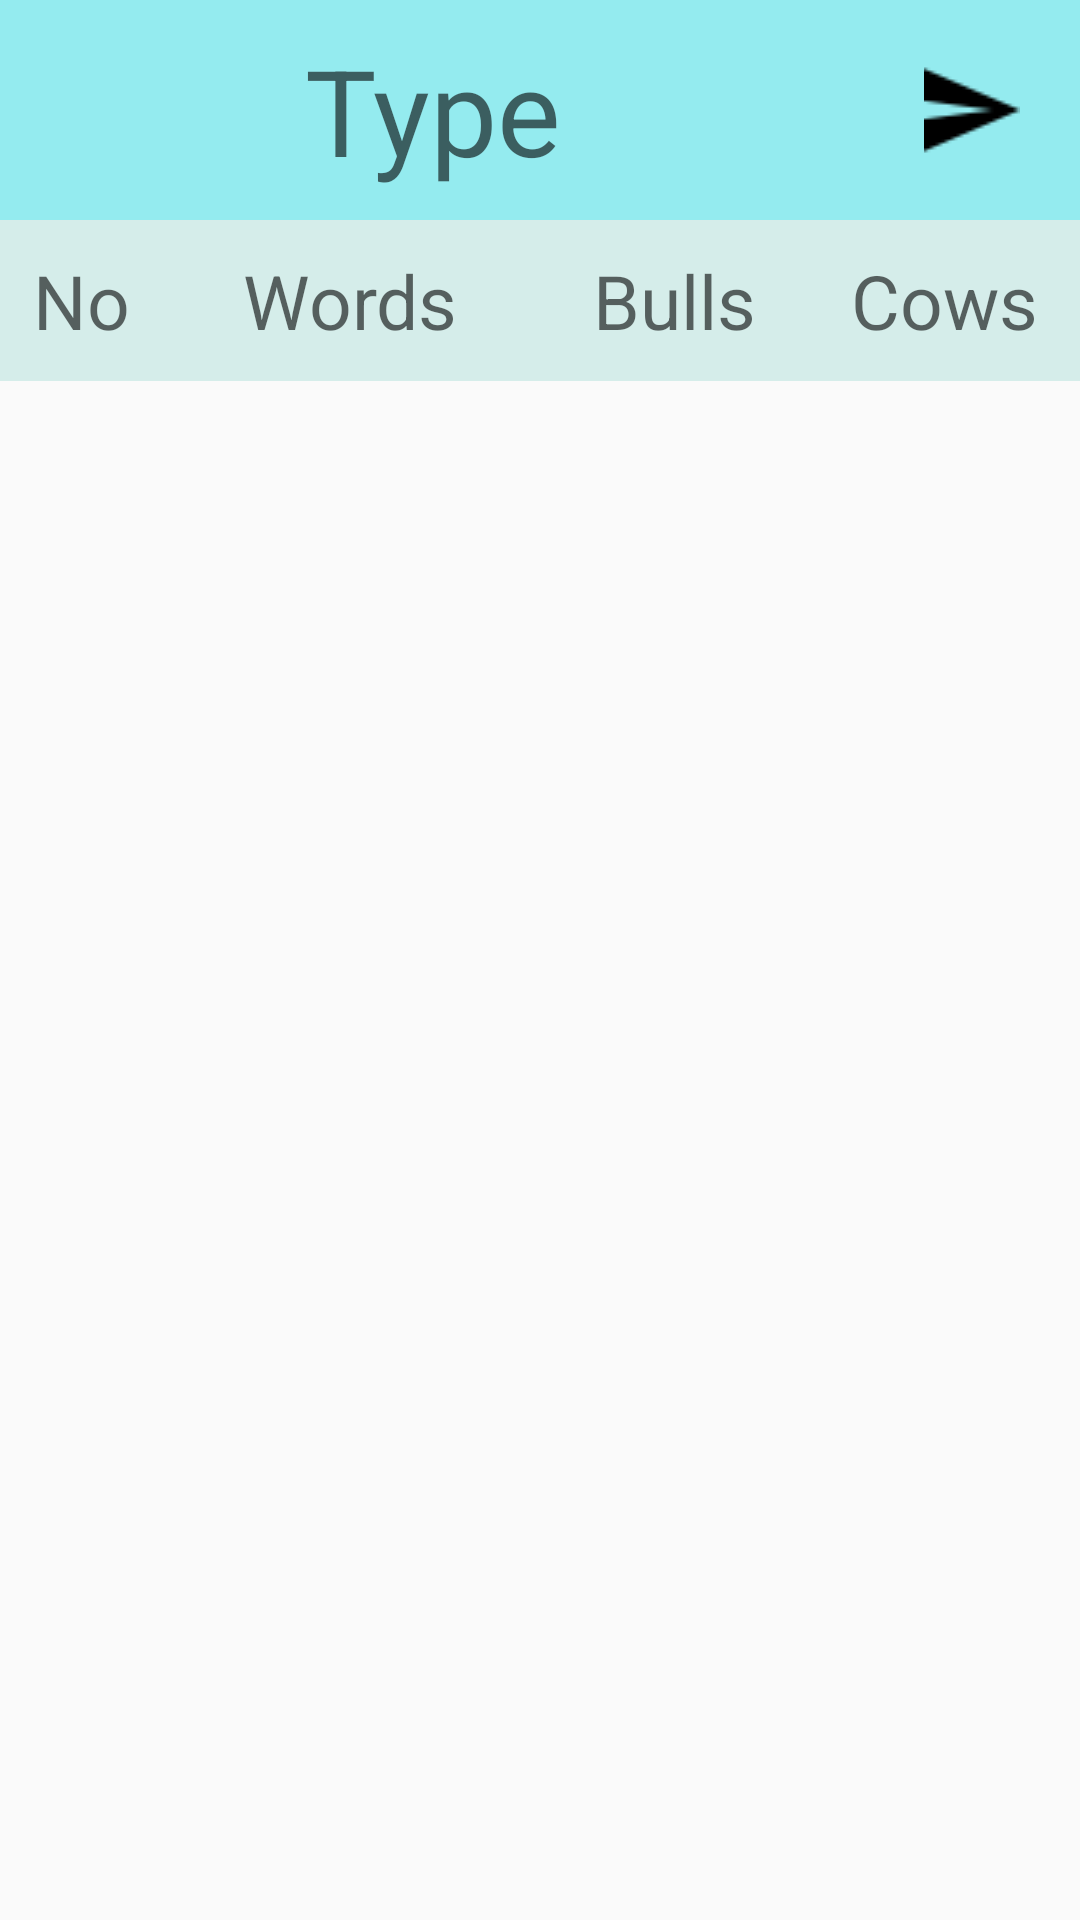

Screen size 1080 × 1920. Icon name, then its box in pixels as box(x1, y1, x2, y2):
send: box(924, 67, 1020, 153)
